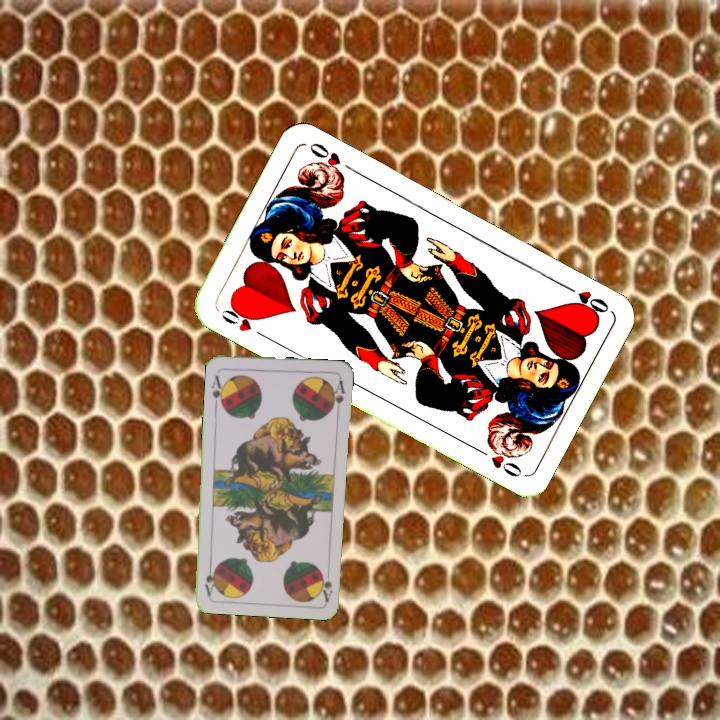HO: (214, 300, 269, 341), (558, 280, 612, 317)
SA: (316, 563, 336, 604), (207, 371, 227, 409)
